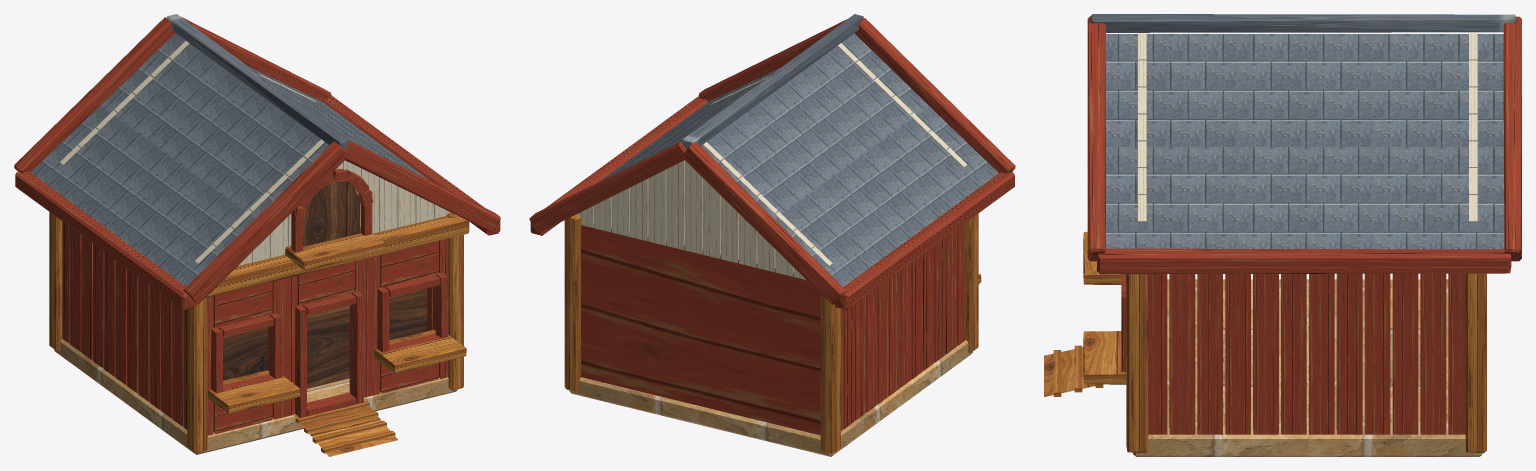
The model's file is ChickenCoop_Companion_Cozy_LOD2.fbx.
3 renders of one model, left to right at view 1: azimuth 30°, elevation 25°; view 2: azimuth 150°, elevation 25°; view 3: azimuth 270°, elevation 25°, orthographic. The views are drawn at different scales.
Visible parts, largest first — view 1: ChickenCoop_Companion_Cozy_LOD2; view 2: ChickenCoop_Companion_Cozy_LOD2; view 3: ChickenCoop_Companion_Cozy_LOD2.
Part boxes in pixels (x1,y1,x2,y2): ChickenCoop_Companion_Cozy_LOD2: [14, 14, 500, 456]; ChickenCoop_Companion_Cozy_LOD2: [529, 14, 1015, 456]; ChickenCoop_Companion_Cozy_LOD2: [1044, 14, 1521, 456].
Bounding box in the file's own units: 3.68 × 3.26 × 3.9.
